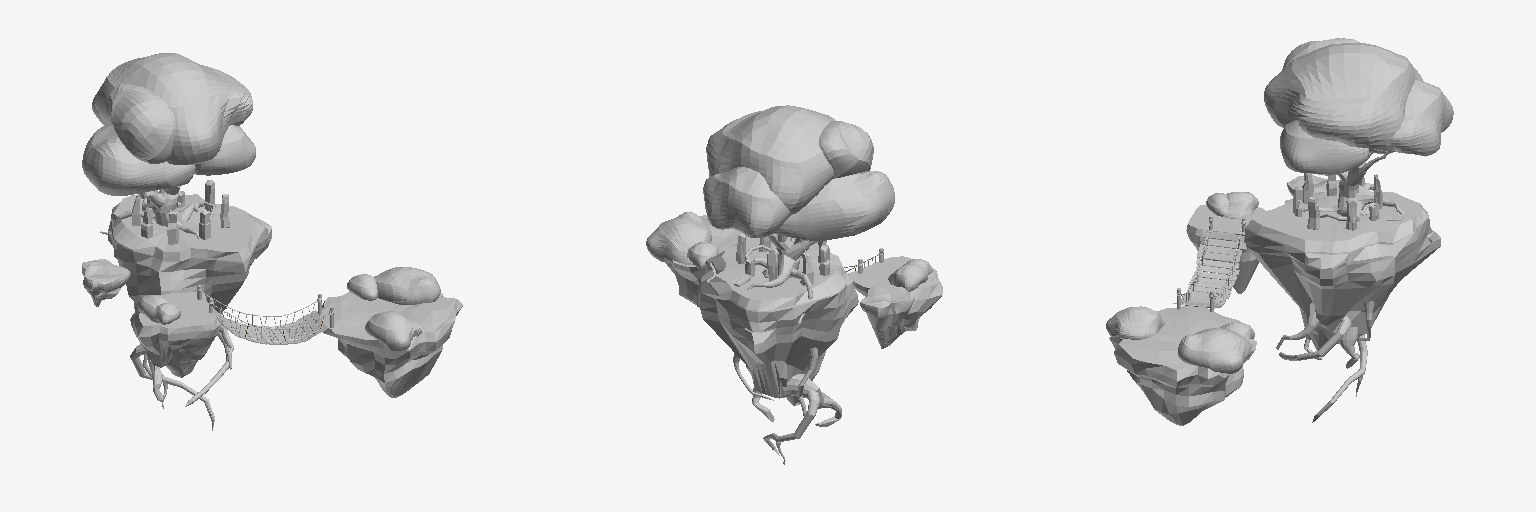
File: island.obj
3 renders of one model, left to right at view 1: azimuth 30°, elevation 25°; view 2: azimuth 150°, elevation 25°; view 3: azimuth 270°, elevation 25°, orthographic.
Parts seen in each view (by area): view 1: TreeLeafs_initialShadingGroup_0, MainIsland_initialShadingGroup_0, BridgeislandBig_initialShadingGroup_0, BridgeIslandSmall_initialShadingGroup_0, Bush1_initialShadingGroup_0, TreeRoots_initialShadingGroup_0, Tree_initialShadingGroup_0, Bush_initialShadingGroup_0, RoutteIsland_initialShadingGroup_0, Bridge1_initialShadingGroup_0, bush_initialShadingGroup_0; view 2: TreeLeafs_initialShadingGroup_0, MainIsland_initialShadingGroup_0, BridgeIslandSmall_initialShadingGroup_0, TreeRoots_initialShadingGroup_0, Bush1_initialShadingGroup_0, RoutteIsland_initialShadingGroup_0, Tree_initialShadingGroup_0, BridgeislandBig_initialShadingGroup_0, Bush2_initialShadingGroup_0, bush_initialShadingGroup_0; view 3: TreeLeafs_initialShadingGroup_0, MainIsland_initialShadingGroup_0, BridgeislandBig_initialShadingGroup_0, TreeRoots_initialShadingGroup_0, Bush1_initialShadingGroup_0, Bridge1_initialShadingGroup_0, BridgeIslandSmall_initialShadingGroup_0, Tree_initialShadingGroup_0, Bush_initialShadingGroup_0, Bush2_initialShadingGroup_0.
Part boxes in pixels (bbox=[...]): TreeLeafs_initialShadingGroup_0: bbox=[82, 53, 255, 195]; MainIsland_initialShadingGroup_0: bbox=[108, 194, 271, 375]; BridgeislandBig_initialShadingGroup_0: bbox=[320, 292, 462, 397]; BridgeIslandSmall_initialShadingGroup_0: bbox=[130, 292, 219, 377]; Bush1_initialShadingGroup_0: bbox=[374, 267, 440, 304]; TreeRoots_initialShadingGroup_0: bbox=[130, 302, 233, 430]; Tree_initialShadingGroup_0: bbox=[100, 186, 215, 238]; Bush_initialShadingGroup_0: bbox=[365, 311, 421, 350]; RoutteIsland_initialShadingGroup_0: bbox=[82, 259, 130, 306]; Bridge1_initialShadingGroup_0: bbox=[213, 310, 327, 344]; bush_initialShadingGroup_0: bbox=[347, 274, 377, 300]; TreeLeafs_initialShadingGroup_0: bbox=[703, 105, 894, 242]; MainIsland_initialShadingGroup_0: bbox=[698, 238, 858, 405]; BridgeIslandSmall_initialShadingGroup_0: bbox=[848, 256, 942, 348]; TreeRoots_initialShadingGroup_0: bbox=[733, 347, 841, 464]; Bush1_initialShadingGroup_0: bbox=[646, 211, 711, 268]; RoutteIsland_initialShadingGroup_0: bbox=[860, 286, 914, 337]; Tree_initialShadingGroup_0: bbox=[744, 234, 821, 323]; BridgeislandBig_initialShadingGroup_0: bbox=[665, 215, 754, 306]; Bush2_initialShadingGroup_0: bbox=[888, 264, 927, 291]; bush_initialShadingGroup_0: bbox=[687, 242, 718, 269]; TreeLeafs_initialShadingGroup_0: bbox=[1264, 38, 1453, 175]; MainIsland_initialShadingGroup_0: bbox=[1245, 190, 1440, 350]; BridgeislandBig_initialShadingGroup_0: bbox=[1109, 306, 1256, 425]; TreeRoots_initialShadingGroup_0: bbox=[1276, 301, 1374, 422]; Bush1_initialShadingGroup_0: bbox=[1178, 328, 1252, 373]; Bridge1_initialShadingGroup_0: bbox=[1173, 230, 1246, 307]; BridgeIslandSmall_initialShadingGroup_0: bbox=[1186, 205, 1265, 293]; Tree_initialShadingGroup_0: bbox=[1302, 152, 1404, 223]; Bush_initialShadingGroup_0: bbox=[1106, 306, 1164, 339]; Bush2_initialShadingGroup_0: bbox=[1223, 192, 1258, 218].
Size of the model in its own units: 53.1 by 59.09 by 51.18.